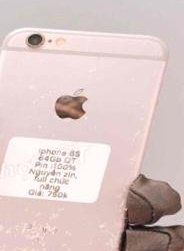scratch: (86, 81, 184, 251), (11, 55, 113, 139), (0, 182, 96, 251), (88, 16, 178, 75)
